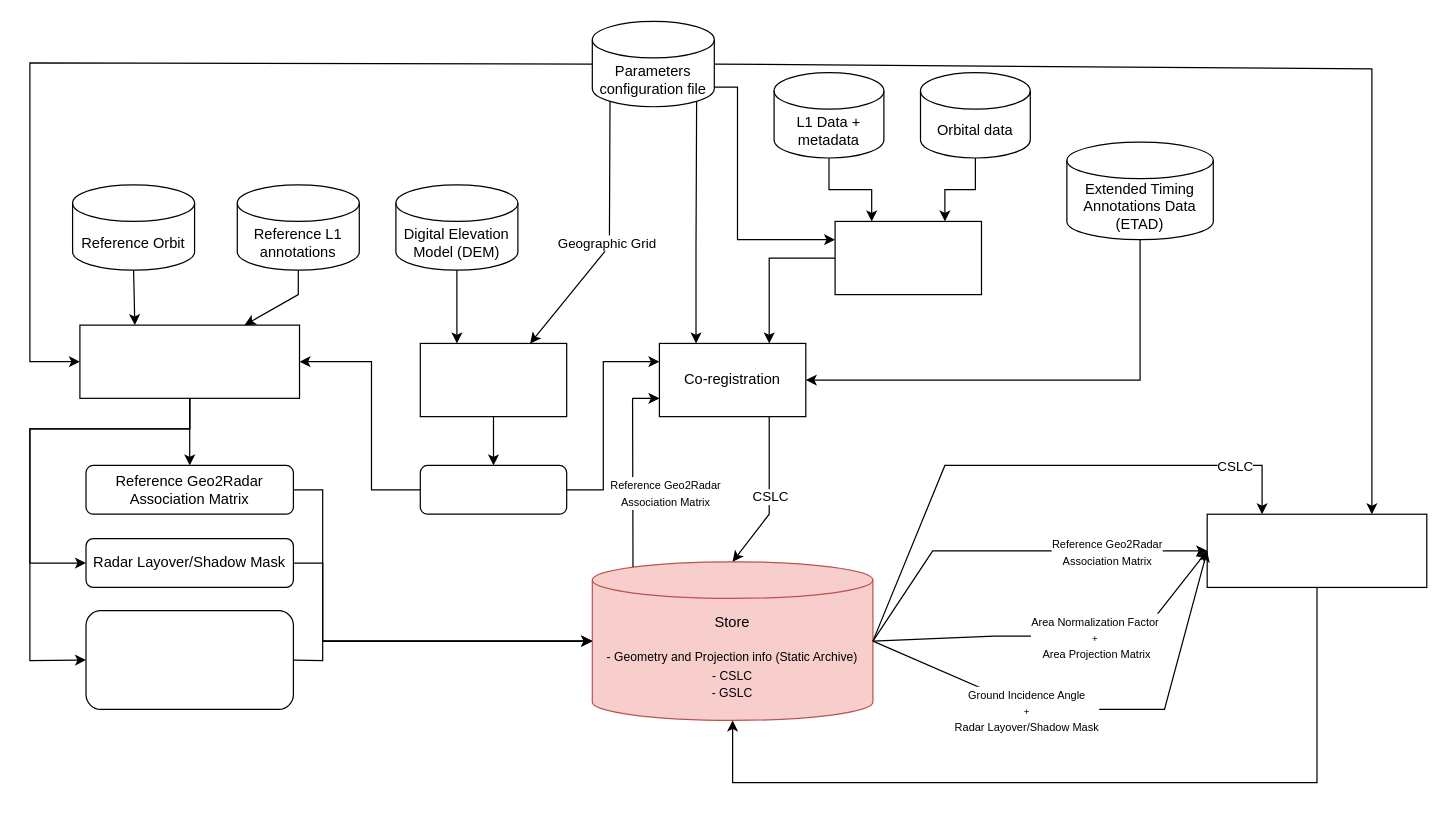
The diagram is 1448 pixels wide and 814 high, and some of its shapes have lost their labels. The shapes that lost their labels are listed below. From the top down, each one's centre as x and y in pixels, then its label:
At point 907,257: "Ingestion".
At point 189,361: "Reference Geometry".
At point 493,379: "Reference DEM".
At point 493,489: "Resampled DEM (Reference DEM)".
At point 1316,550: "Geocoding".
At point 189,659: "Area Projection Matrix + Area Normalization Factor + Ground Incidence Angle".
